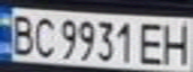1: (115, 18, 139, 64)
3: (93, 18, 118, 63)
9: (54, 16, 78, 61), (75, 17, 96, 62)
B: (6, 10, 39, 56)
C: (30, 14, 57, 58)
E: (136, 19, 169, 65)
H: (157, 19, 193, 66)
